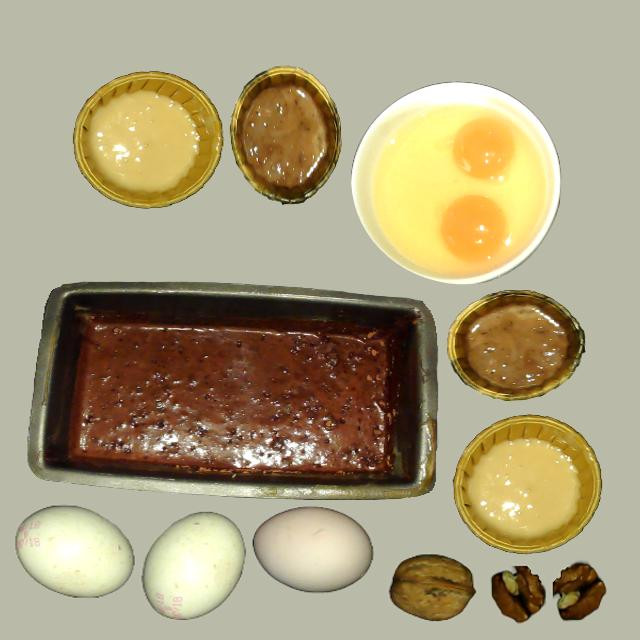Egg: (442, 196, 508, 260), (452, 118, 516, 180)
Walnut: (389, 555, 473, 620)
